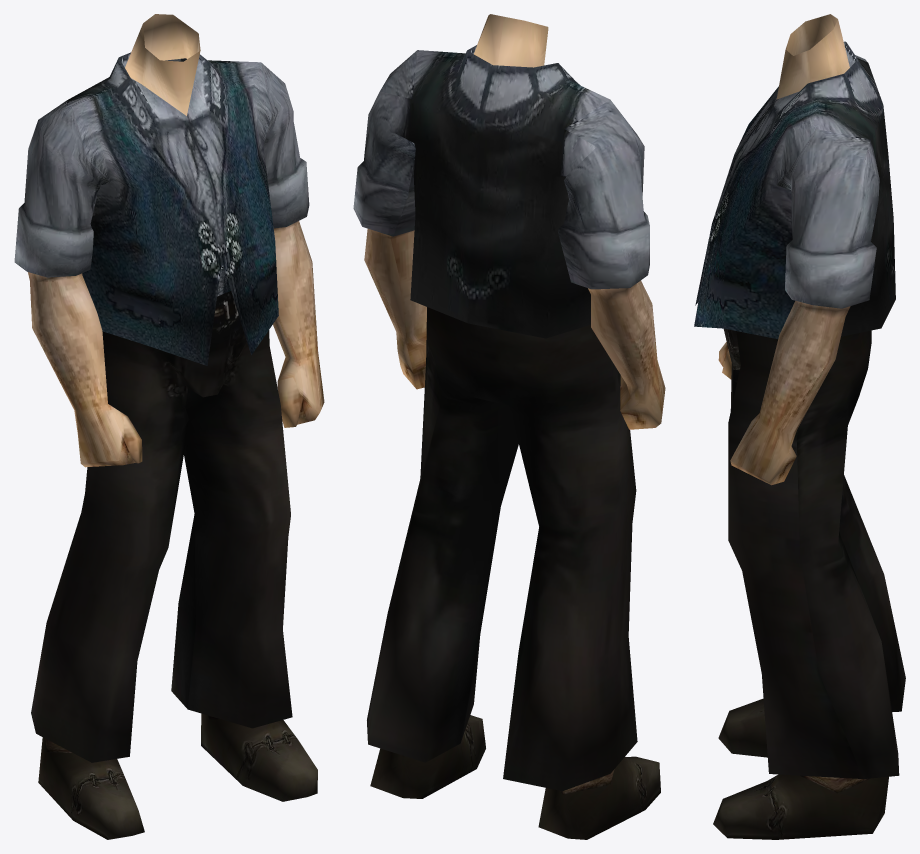
File: ARMOR_BAU_M_02.glb
3 renders of one model, left to right at view 1: azimuth 30°, elevation 25°; view 2: azimuth 150°, elevation 25°; view 3: azimuth 270°, elevation 25°, orthographic. The views are drawn at different scales.
Parts seen in each view (by area): view 1: ARMOR_BAU_M_02; view 2: ARMOR_BAU_M_02; view 3: ARMOR_BAU_M_02.
Boxes of the visible parts, x1,y1,x2,y2 form: ARMOR_BAU_M_02: (14,14,324,839); ARMOR_BAU_M_02: (353,14,665,839); ARMOR_BAU_M_02: (694,14,905,839).
Size of the model in its own units: 0.6416 by 1.69 by 0.4237.
2 materials, 2 textured.
